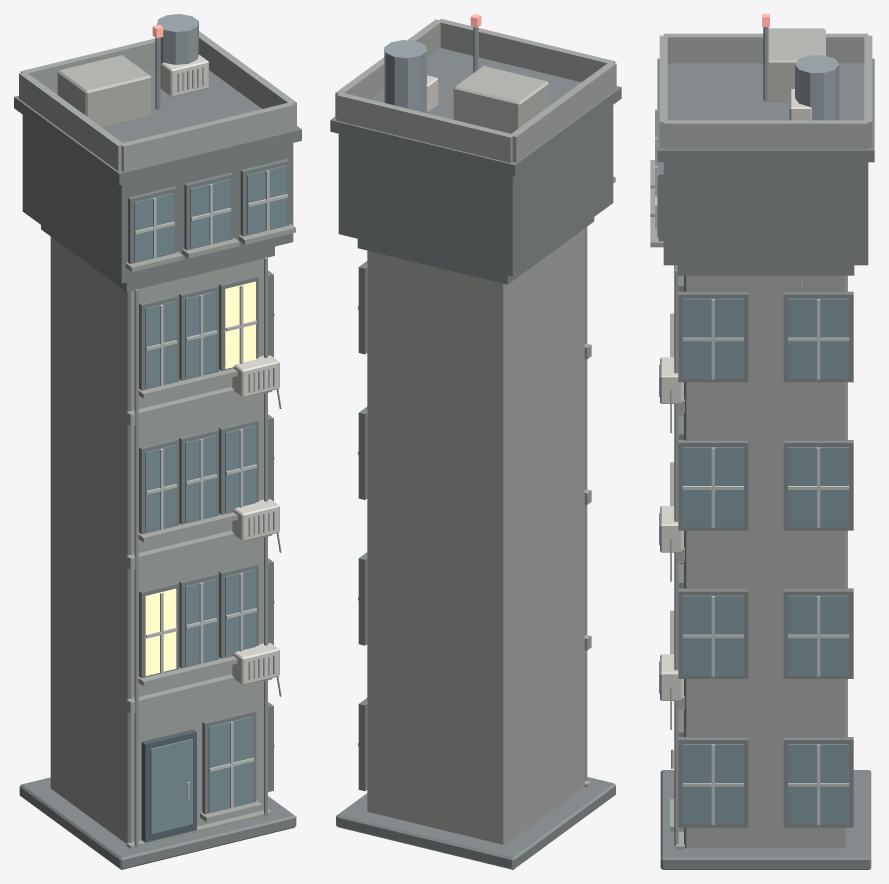
File: SM_ENV_Building_07_SignalTower.glb
3 renders of one model, left to right at view 1: azimuth 30°, elevation 25°; view 2: azimuth 150°, elevation 25°; view 3: azimuth 270°, elevation 25°, orthographic. The views are drawn at different scales.
Parts seen in each view (by area): view 1: SM_ENV_Building_07_SignalTower; view 2: SM_ENV_Building_07_SignalTower; view 3: SM_ENV_Building_07_SignalTower.
Boxes of the visible parts, <box> form: SM_ENV_Building_07_SignalTower: <box>14,14,301,869</box>; SM_ENV_Building_07_SignalTower: <box>330,14,621,869</box>; SM_ENV_Building_07_SignalTower: <box>650,14,874,869</box>.
Bounding box in the file's own units: 3.72 × 15.29 × 3.84.
